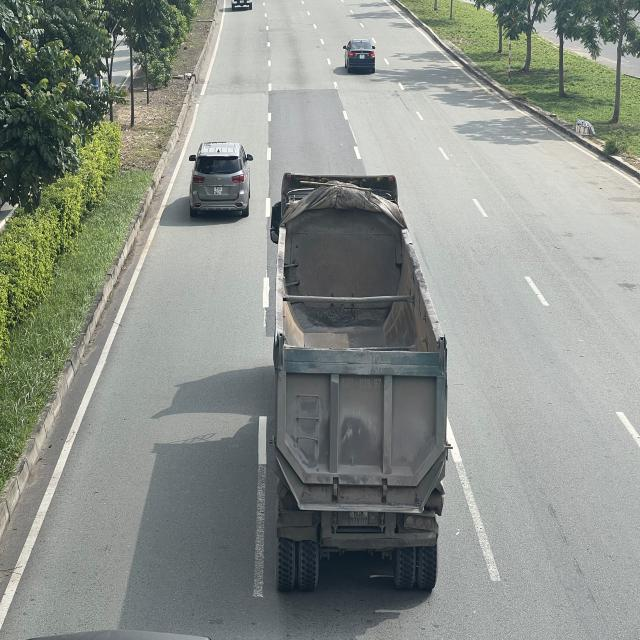car: (188, 140, 252, 214), (342, 38, 377, 73)
container: (274, 177, 453, 598)
